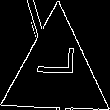L_W: (33, 55, 79, 89)
